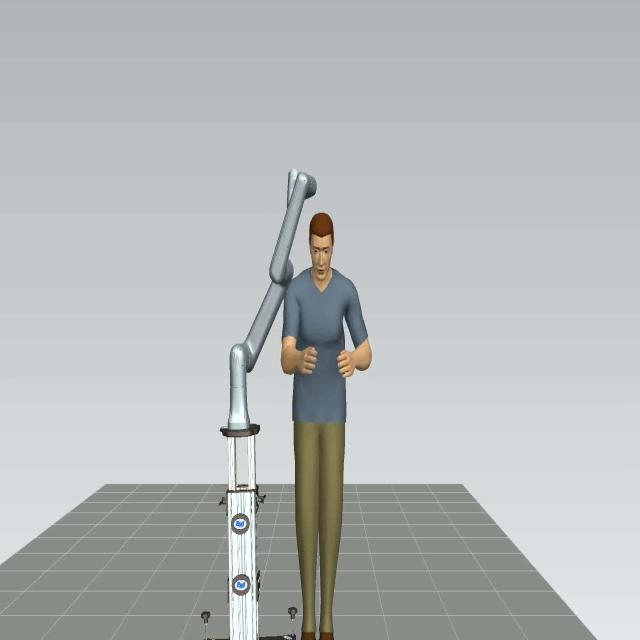human: (280, 211, 372, 638)
robot: (201, 166, 318, 638)
